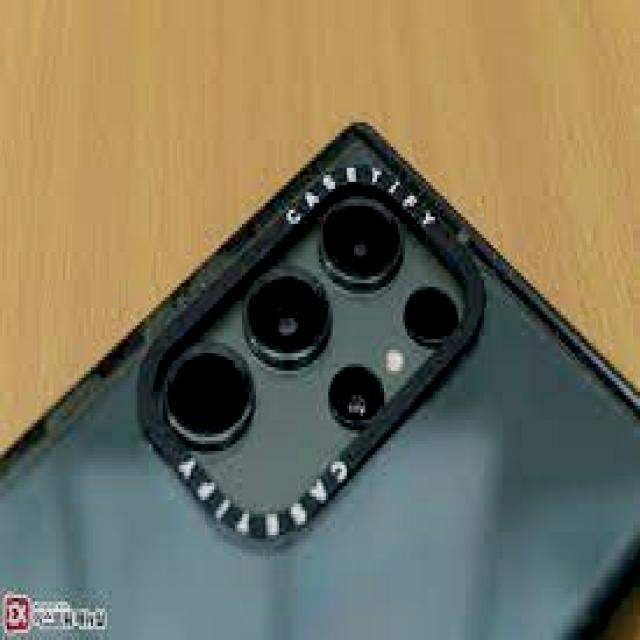lens: (161, 193, 467, 490)
phone: (2, 118, 640, 640)
